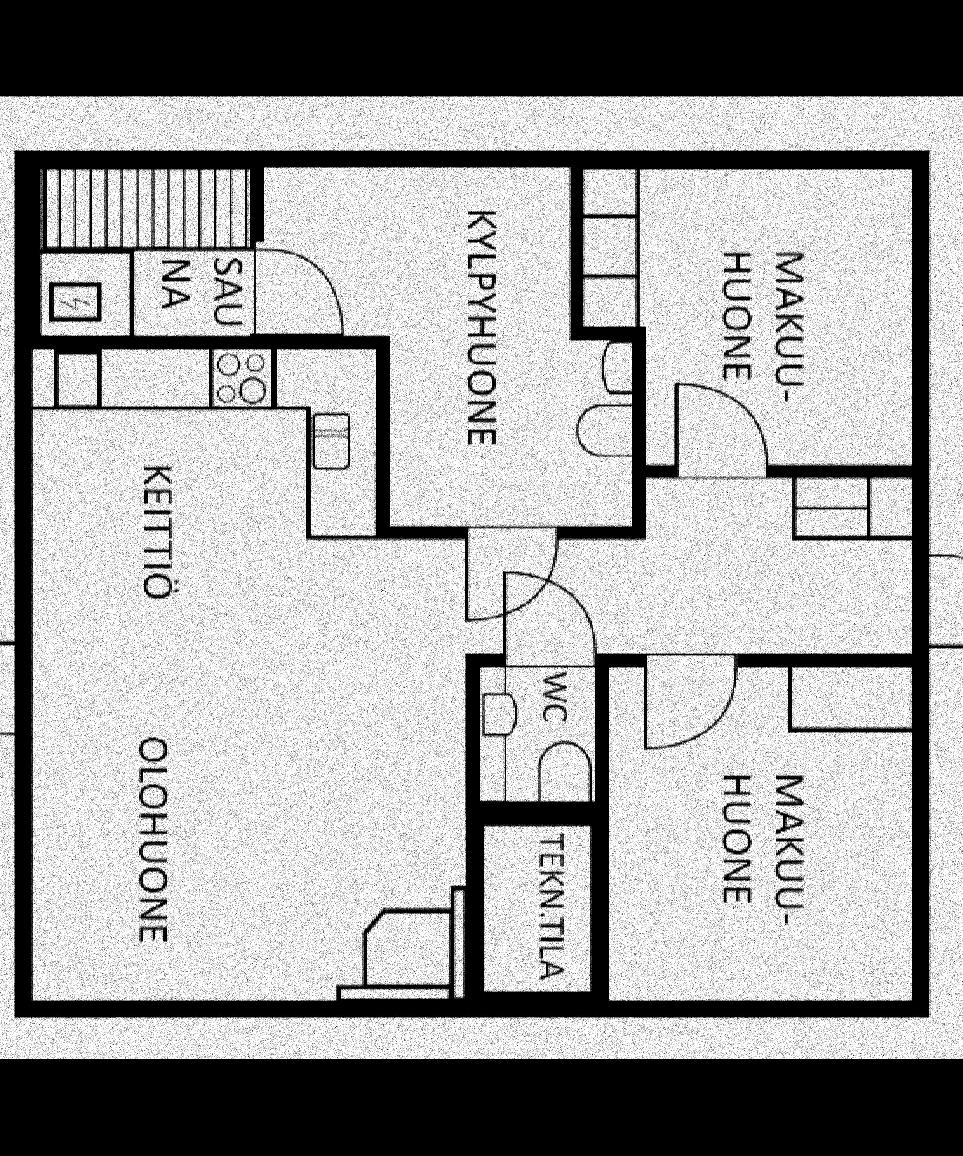door: (640, 648, 745, 758), (460, 522, 562, 630), (672, 378, 770, 481), (505, 572, 596, 668), (254, 247, 348, 336), (913, 548, 963, 659)
zone: (30, 343, 912, 1003), (24, 175, 636, 538), (602, 666, 914, 1006), (642, 171, 906, 466), (480, 828, 588, 992), (478, 668, 595, 806)
